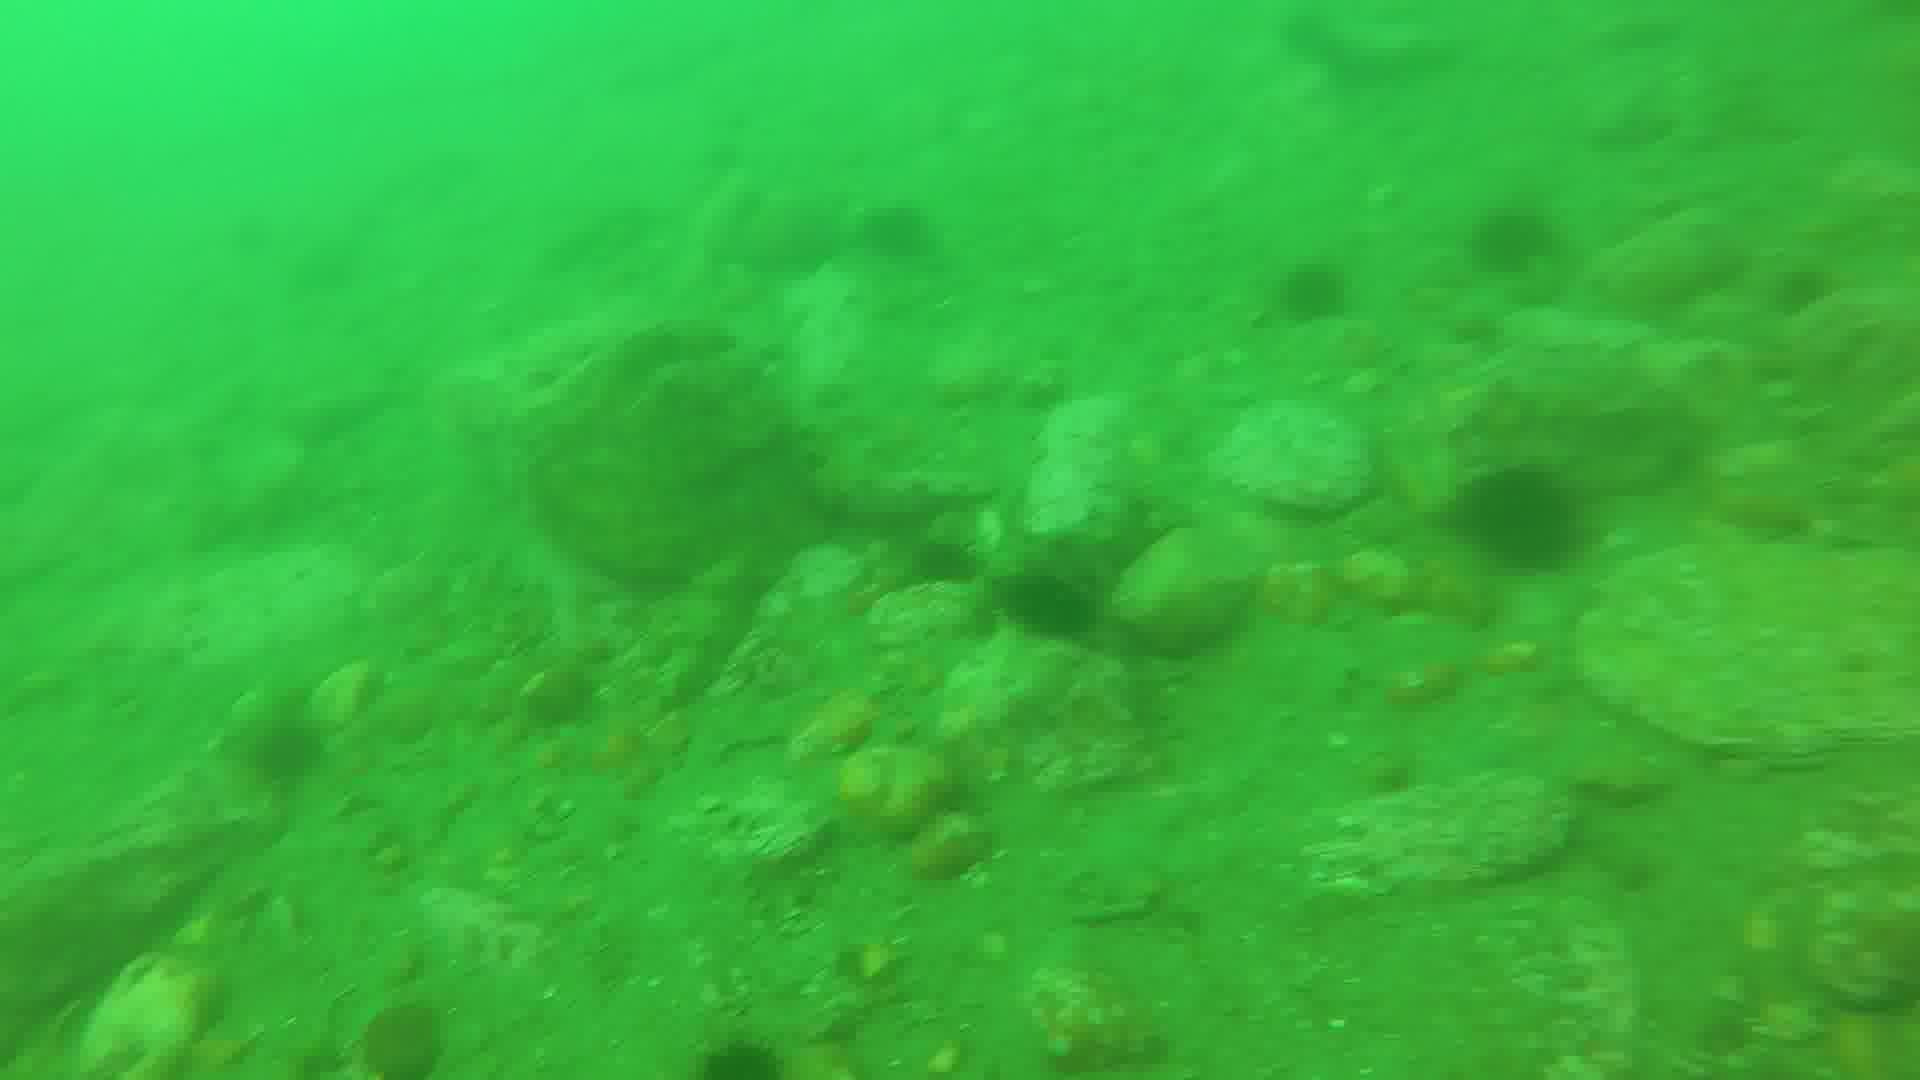echinus: (1462, 469, 1586, 567), (1002, 567, 1106, 644), (862, 196, 949, 262), (1472, 208, 1553, 274), (1283, 272, 1358, 328), (702, 1042, 785, 1080)
